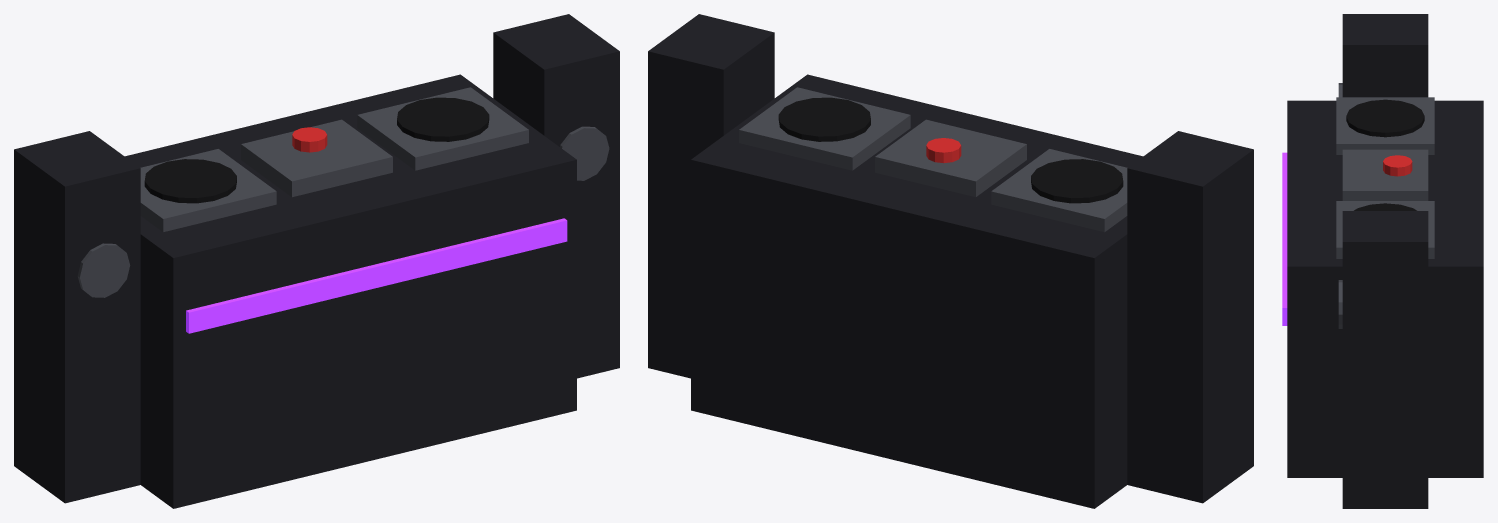
File: rink_dj_booth.glb
3 renders of one model, left to right at view 1: azimuth 30°, elevation 25°; view 2: azimuth 150°, elevation 25°; view 3: azimuth 270°, elevation 25°, orthographic. The views are drawn at different scales.
Visible parts, largest first — view 1: desk_dj_black, speaker_dj_black, deck_dj_grey, front_dj_stripe, mixer_dj_grey, vinyl_dj_vinyl, cone_dj_grey, song_dj_song; view 2: desk_dj_black, speaker_dj_black, deck_dj_grey, mixer_dj_grey, vinyl_dj_vinyl, song_dj_song; view 3: desk_dj_black, speaker_dj_black, deck_dj_grey, mixer_dj_grey, vinyl_dj_vinyl, front_dj_stripe, song_dj_song, cone_dj_grey.
Part boxes in pixels (<box>): desk_dj_black: <box>125,74,576,508</box>; speaker_dj_black: <box>14,14,619,503</box>; deck_dj_grey: <box>140,87,528,232</box>; front_dj_stripe: <box>186,218,567,333</box>; mixer_dj_grey: <box>241,119,392,197</box>; vinyl_dj_vinyl: <box>144,97,489,203</box>; cone_dj_grey: <box>77,126,609,297</box>; song_dj_song: <box>292,127,327,152</box>; desk_dj_black: <box>691,74,1142,508</box>; speaker_dj_black: <box>648,14,1253,503</box>; deck_dj_grey: <box>739,87,1127,232</box>; mixer_dj_grey: <box>875,119,1026,197</box>; vinyl_dj_vinyl: <box>778,97,1123,203</box>; song_dj_song: <box>926,138,961,163</box>; desk_dj_black: <box>1287,100,1483,477</box>; speaker_dj_black: <box>1342,14,1428,508</box>; deck_dj_grey: <box>1336,97,1434,258</box>; mixer_dj_grey: <box>1342,149,1428,200</box>; vinyl_dj_vinyl: <box>1346,99,1424,210</box>; front_dj_stripe: <box>1282,152,1287,325</box>; song_dj_song: <box>1383,155,1412,176</box>; cone_dj_grey: <box>1338,83,1342,328</box>.
Bounding box in the file's own units: 2.2 × 1.2 × 0.82.
